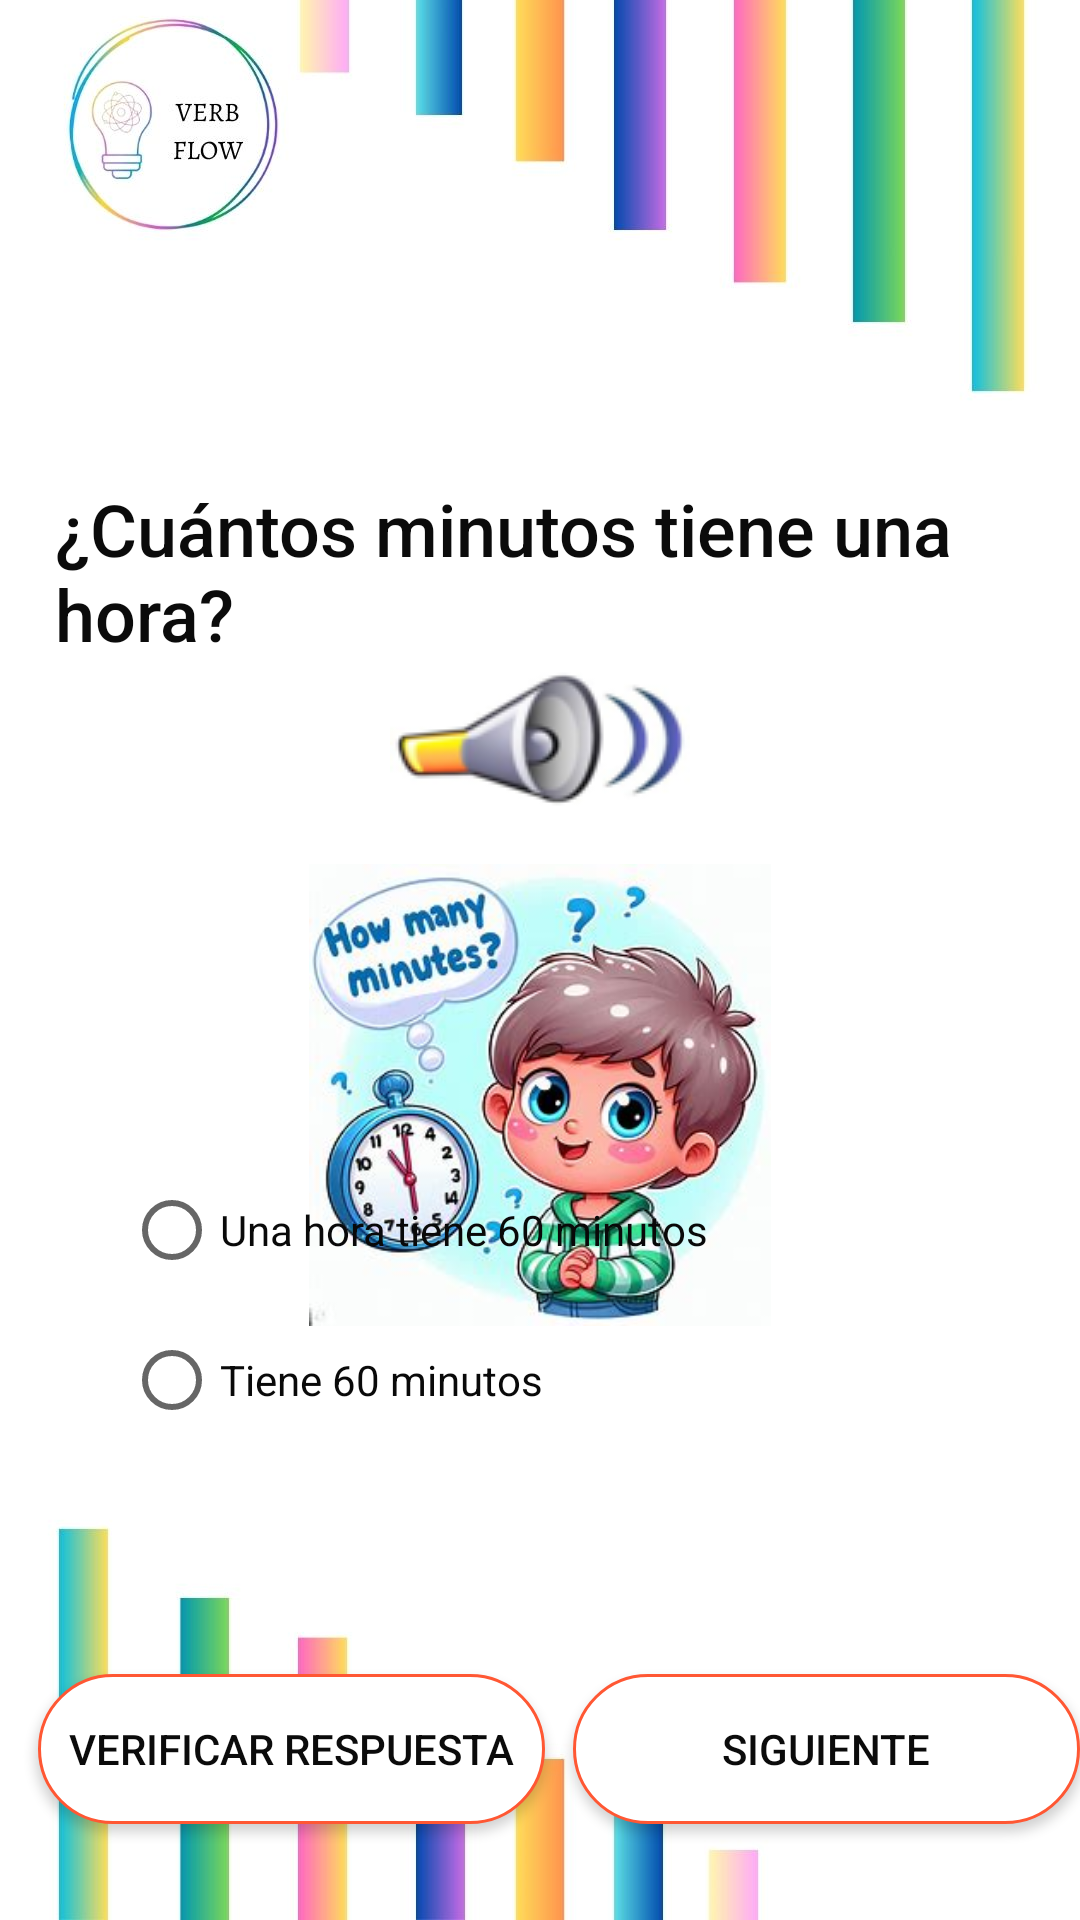

Screen size 1080*1920. Icon name, then its box in pixels as (x1, y1, x2, y2):
altavoz: (397, 675, 682, 803)
